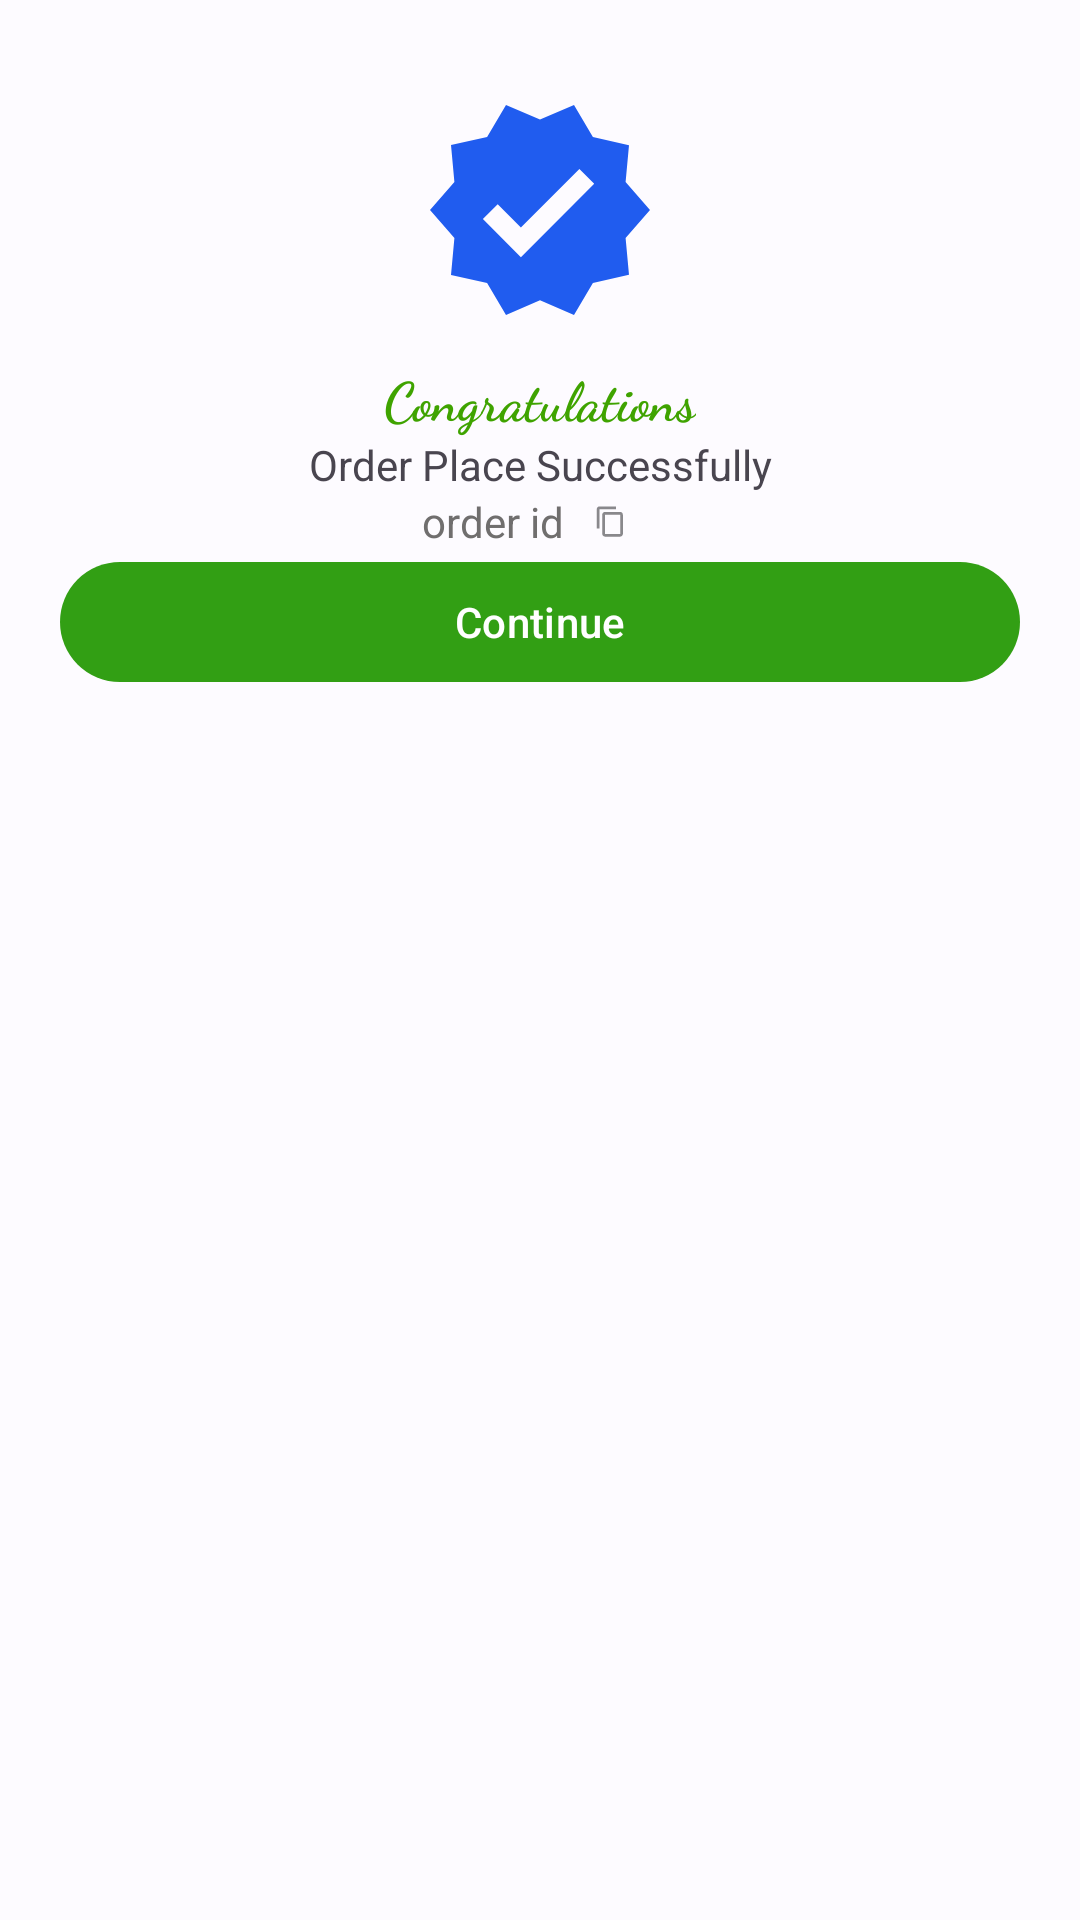

Point at icon controls on the screen. Image size 1080*1920, points as (x=x, y=y).
verified: (x=540, y=210)
